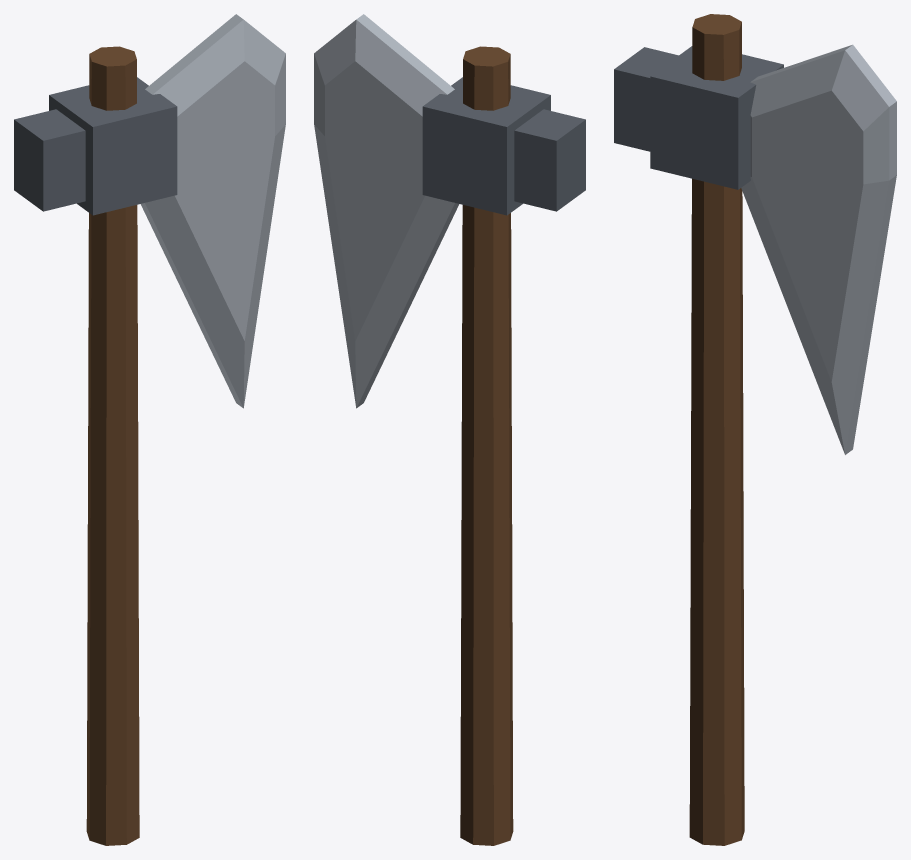
Rendered from g-handaxe-bearded.glb.
3 views of the same model, side by side, from view 1: azimuth 30°, elevation 25°; view 2: azimuth 150°, elevation 25°; view 3: azimuth 330°, elevation 25° (orthographic). The views are drawn at different scales.
Parts seen in each view (by area): view 1: g-handaxe-bearded; view 2: g-handaxe-bearded; view 3: g-handaxe-bearded.
Boxes of the visible parts, box(x1,y1,x2,y2) form: g-handaxe-bearded: box(14, 14, 285, 845); g-handaxe-bearded: box(314, 14, 585, 845); g-handaxe-bearded: box(614, 14, 896, 845).
Size of the model in its own units: 0.15 by 0.445 by 0.045.
